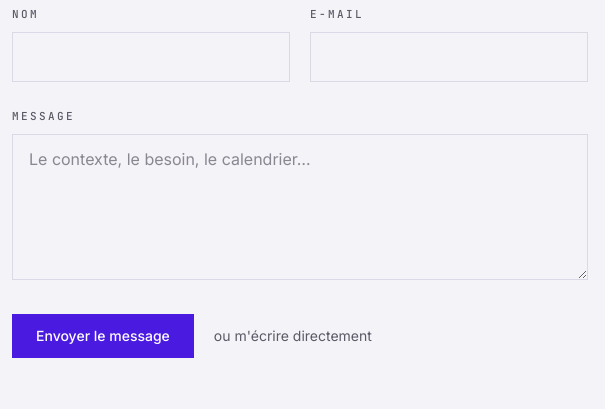
Test: <ContactForm /> › explains a rate-limit rejection rather than showing a generic failure
The width and height of the screenshot is (605, 409).
In the field labelled "Nom": (151, 57) [12,32,290,82], type "Camille Dupont"
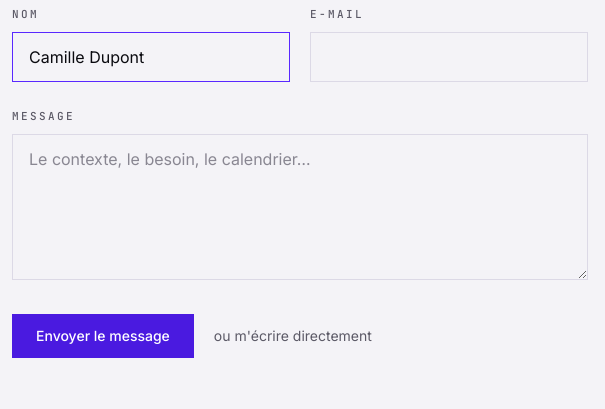
In the field labelled "E-mail": (449, 57) [310,32,588,82], type "camille@example.com"
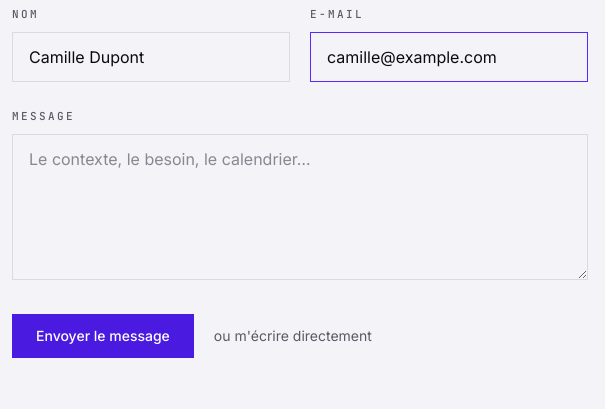
In the text box labelled "Message": (300, 207) [12,134,588,280], type "Bonjour, je souhaiterais discuter dune mission de product design."
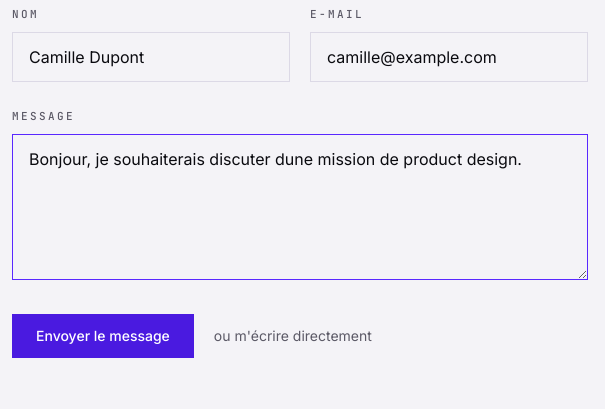
Click the button "Envoyer le message": click(103, 336) [12,314,194,358]
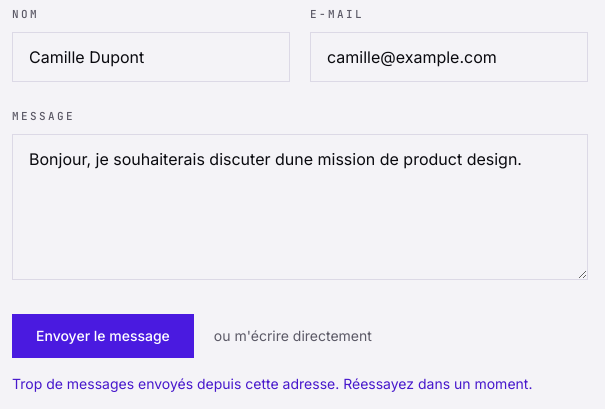
Now the text "Trop de messages" is shown, box [12,375,532,392]
